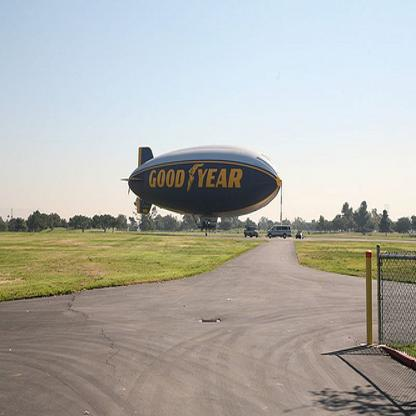Airship: (121, 139, 289, 233)
